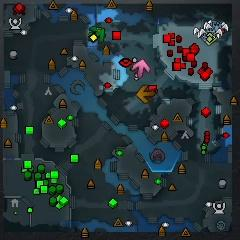x1: (133, 60, 150, 78)
x2: (204, 33, 218, 46)
x4: (90, 26, 105, 44)
x5: (136, 84, 155, 104)
